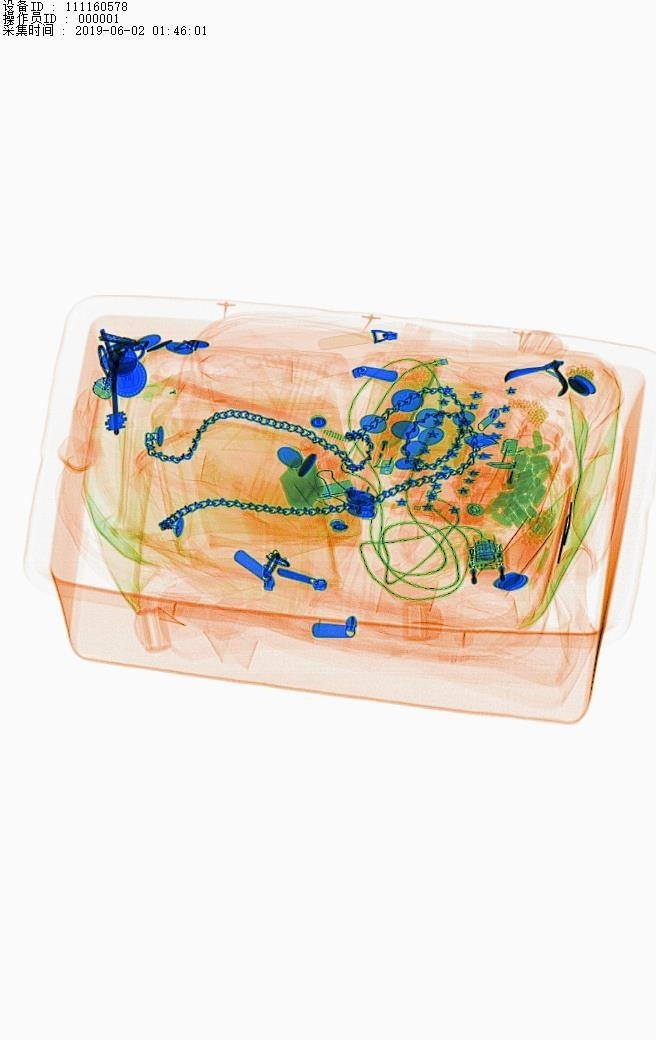NonmetallicFire: (356, 377, 438, 503), (474, 429, 545, 516)
